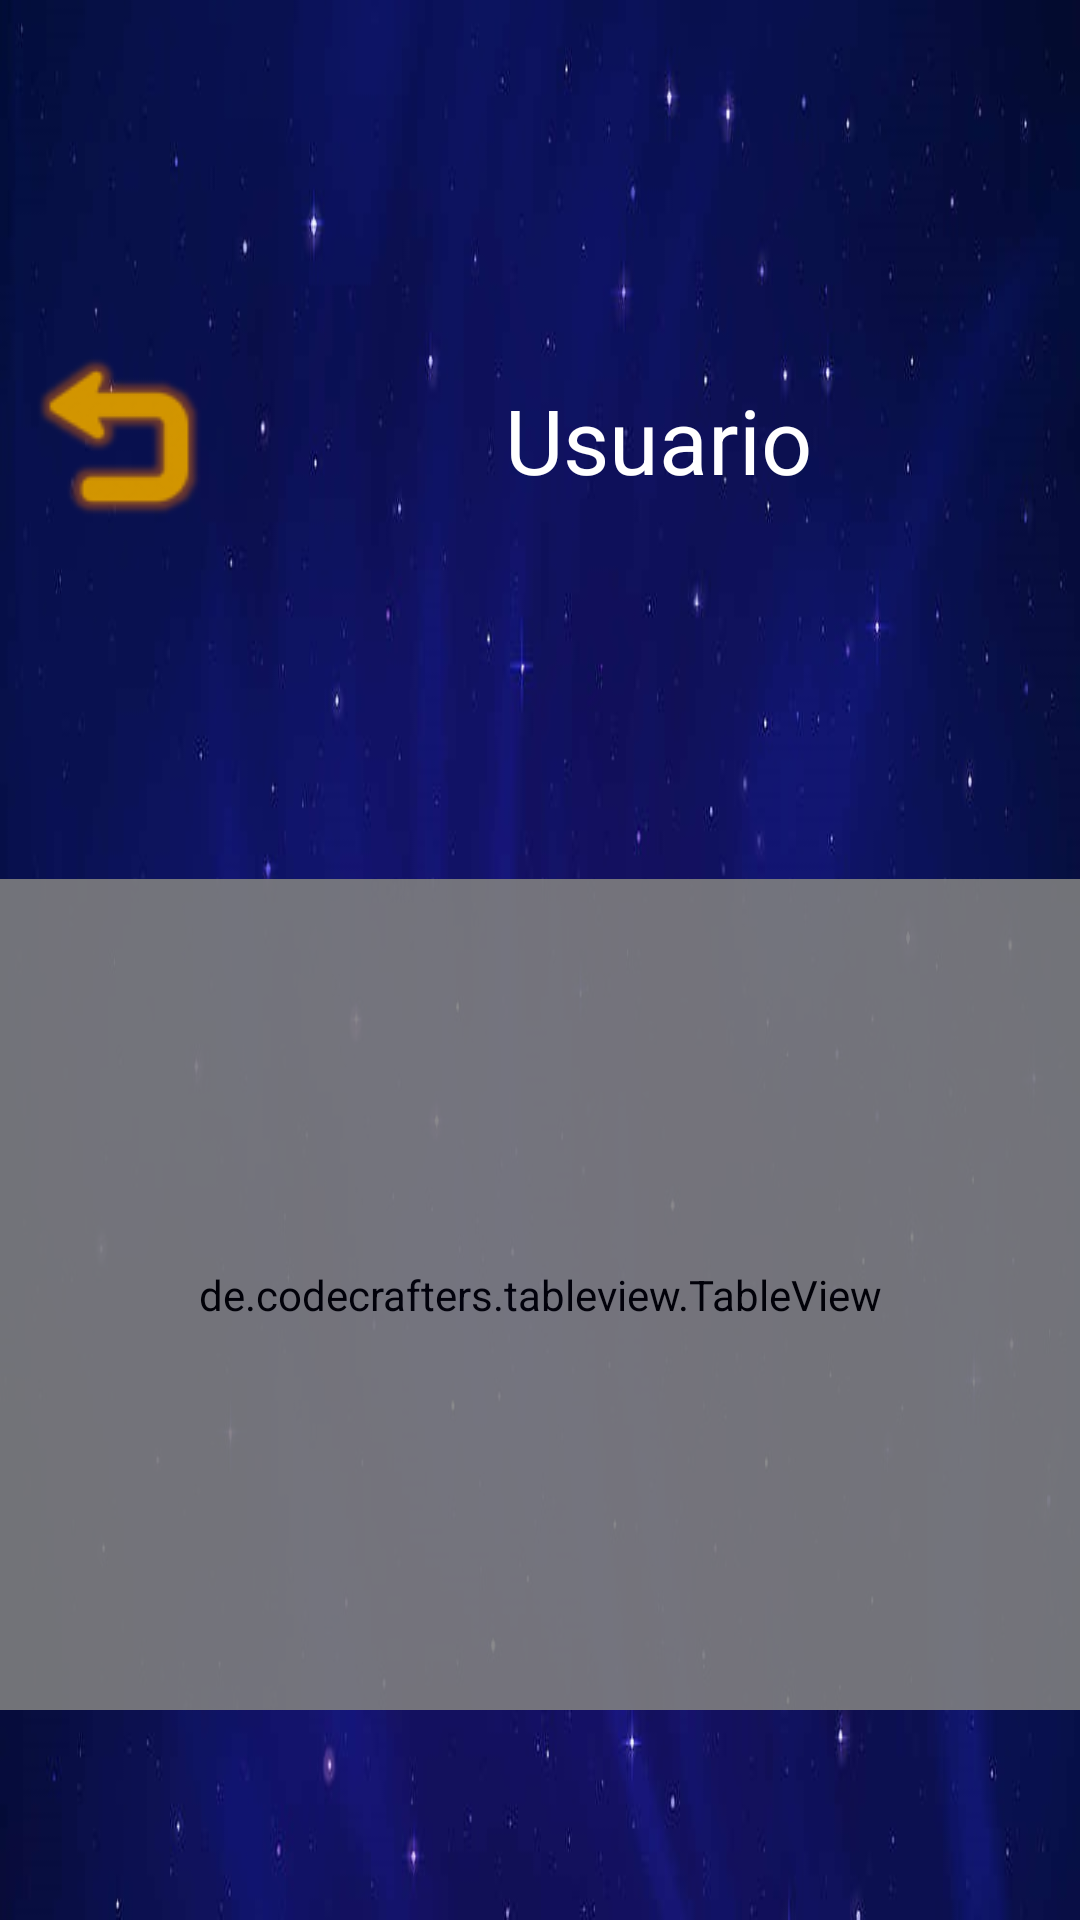

Icons on this 1080px x 1920px Android screen, each with the point to tap as point (x, y):
Back Button: point (119, 437)
